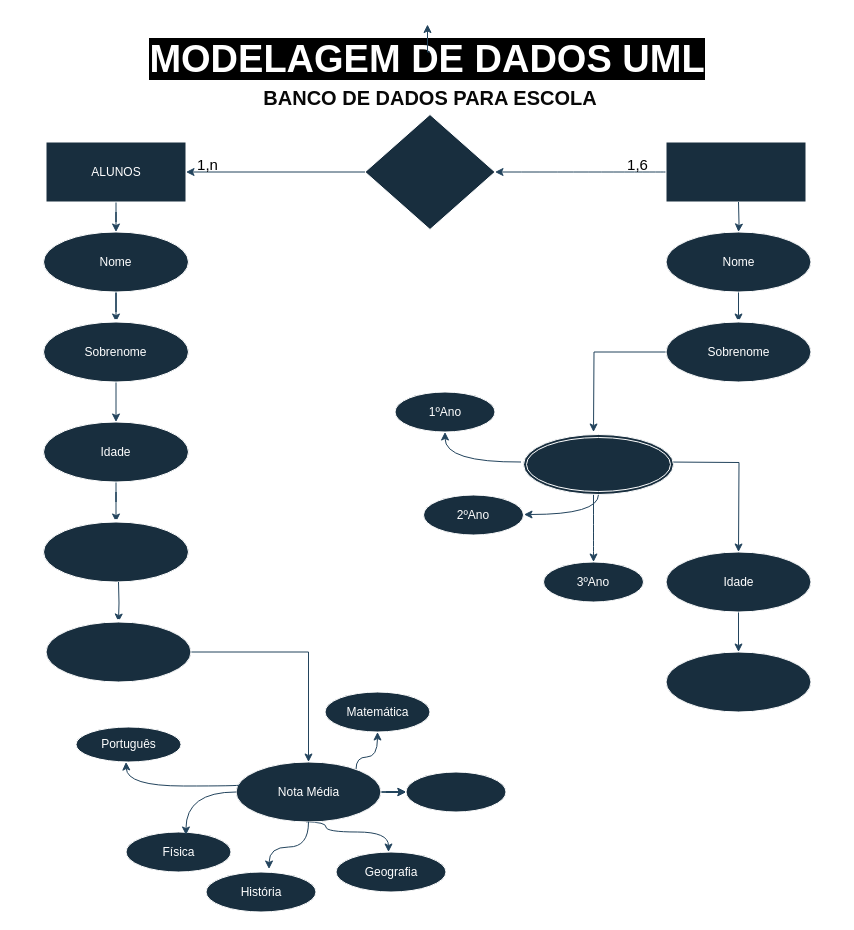
This 854x930 diagram has some shape labels left out. The shapes that lost their labels are listed below. From the top down, each one's centre as x and y in pixels, then its label:
[429,172]: AULA
[735,171]: PROFESSORES
[598,464]: Turmas
[115,551]: Turma
[118,651]: Matrícula
[738,681]: Disciplina
[455,791]: Química
